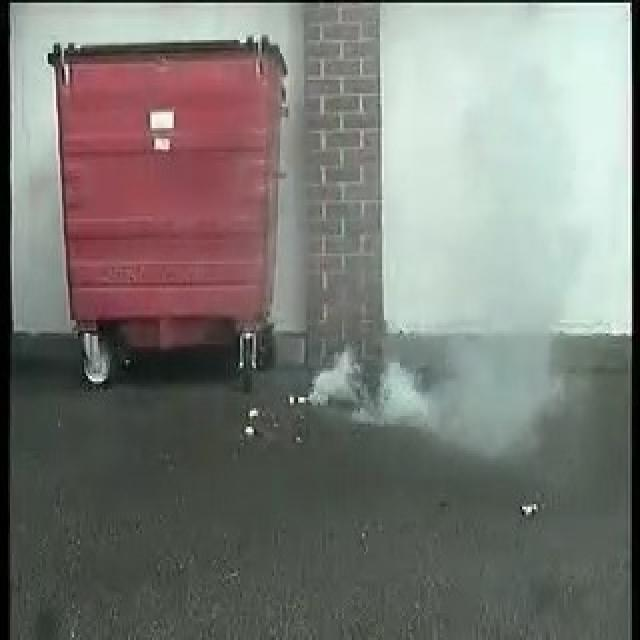smoke: (308, 323, 544, 452)
